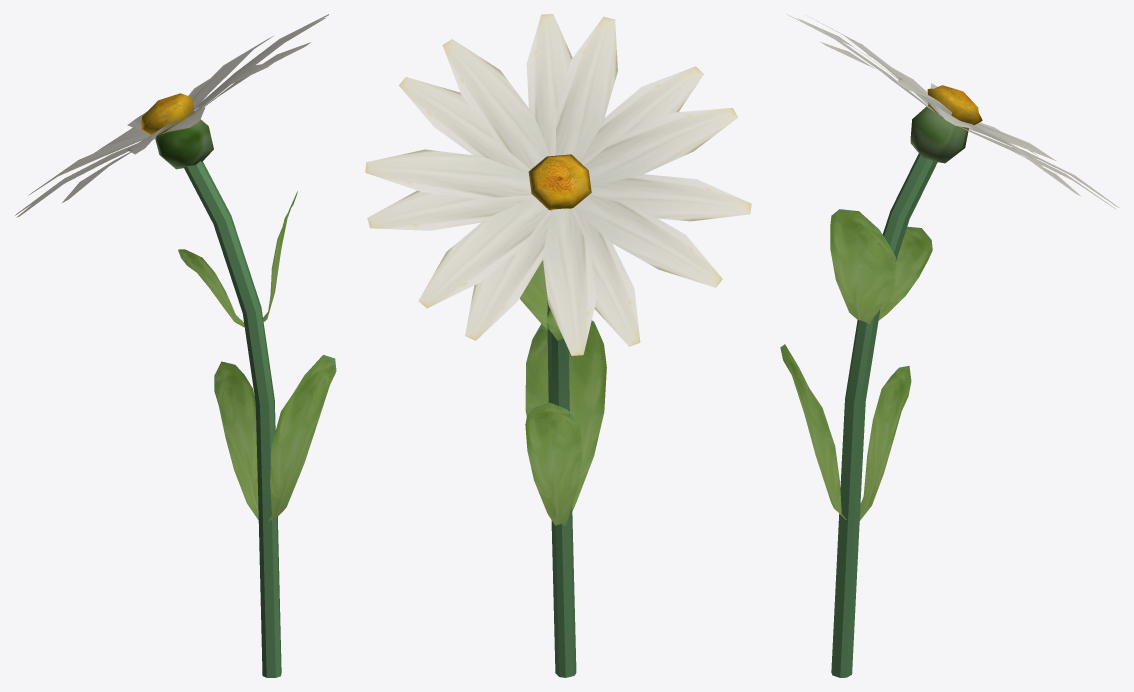
Rendered from WhiteDaisy.fbx.
3 renders of one model, left to right at view 1: azimuth 30°, elevation 25°; view 2: azimuth 150°, elevation 25°; view 3: azimuth 270°, elevation 25°, orthographic. The views are drawn at different scales.
Visible parts, largest first — view 1: White_daisy; view 2: White_daisy; view 3: White_daisy.
Part boxes in pixels (x1,y1,x2,y2): White_daisy: (15,14,336,677); White_daisy: (365,14,751,677); White_daisy: (780,14,1119,677).
Size of the model in its own units: 10.53 by 20.45 by 9.75.
1 material, 1 textured.
